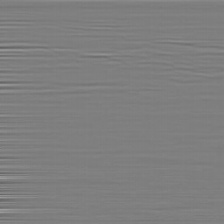cavities: (108, 66, 182, 136)
